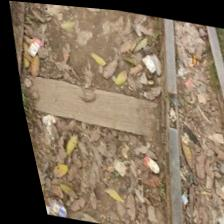person: (144, 80, 190, 137), (212, 84, 224, 109)
